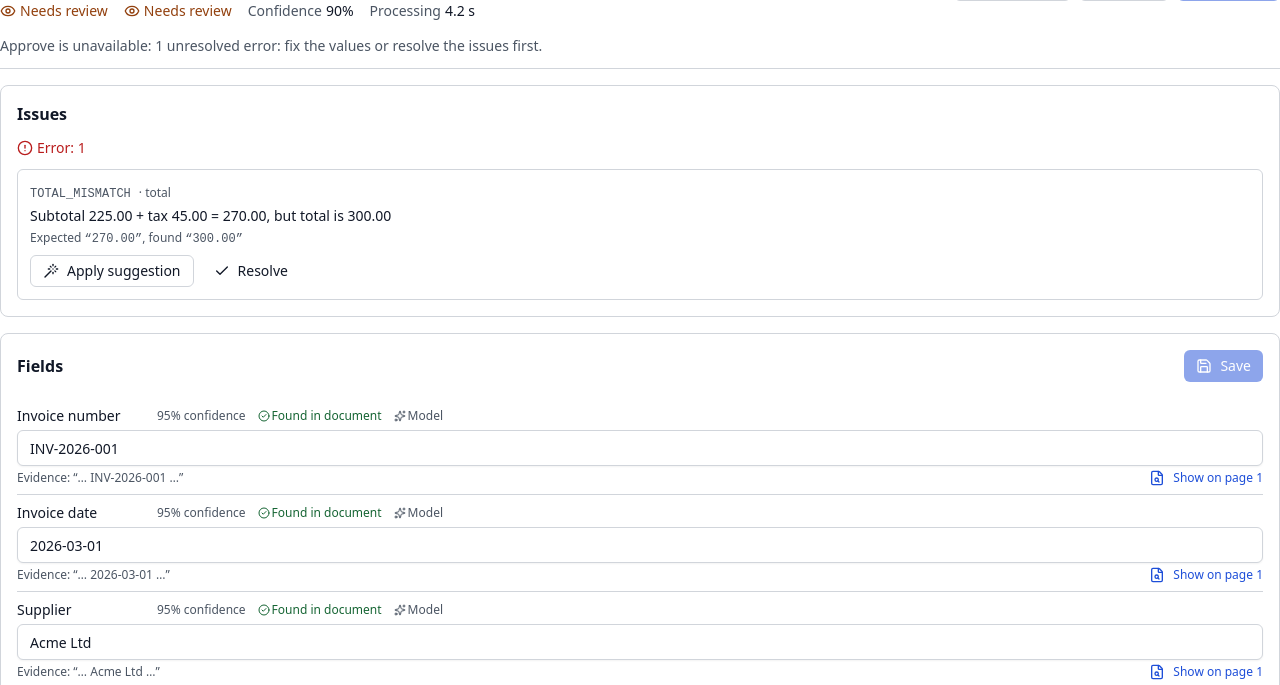
Test: issues and approval › Apply suggestion fills the field (the user still saves)
Click the button "Apply suggestion" at (112, 271), box [30,255,194,287]
(page scrolled)
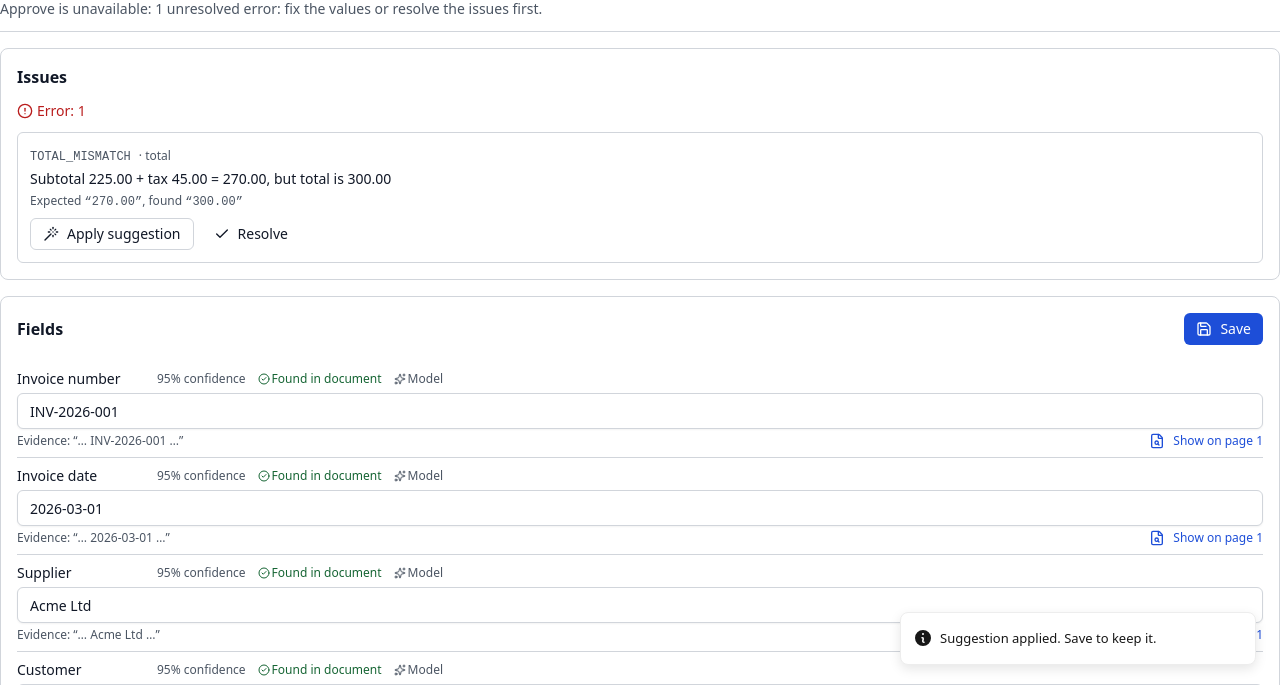
Expected: the button "Save" is enabled, [1184,313,1263,345]
